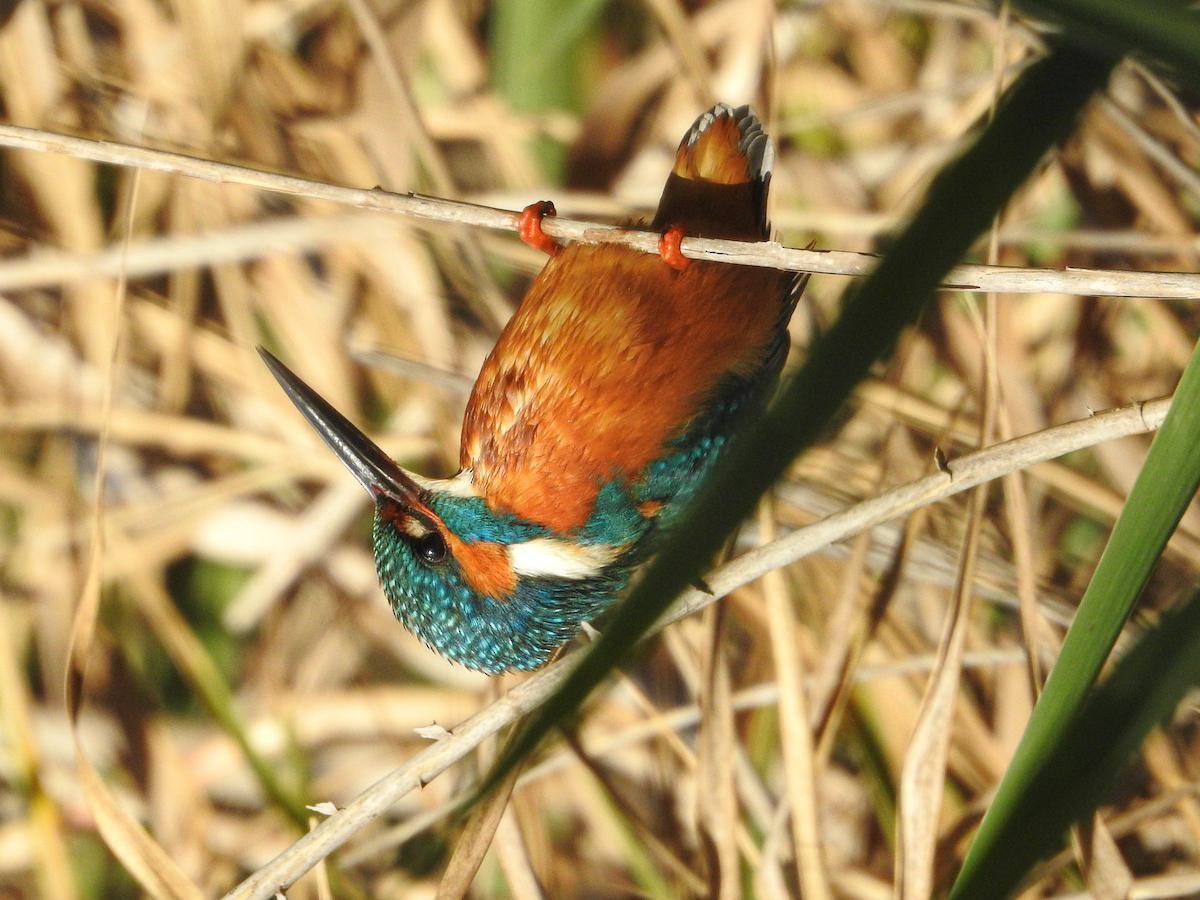kingfisher: (248, 125, 806, 663)
